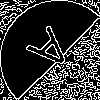A: (25, 25, 82, 82)
